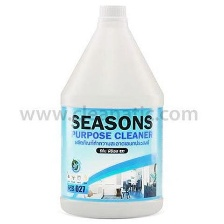cleaning_solution: (57, 2, 165, 221)
